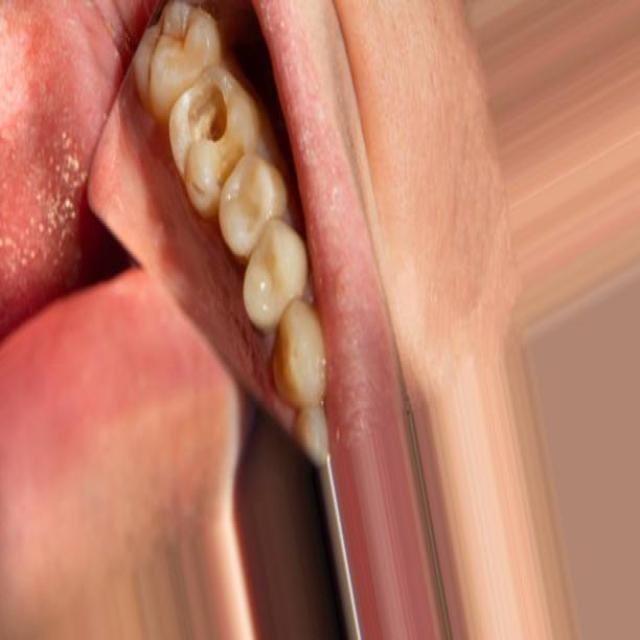caries: (169, 72, 249, 188)
